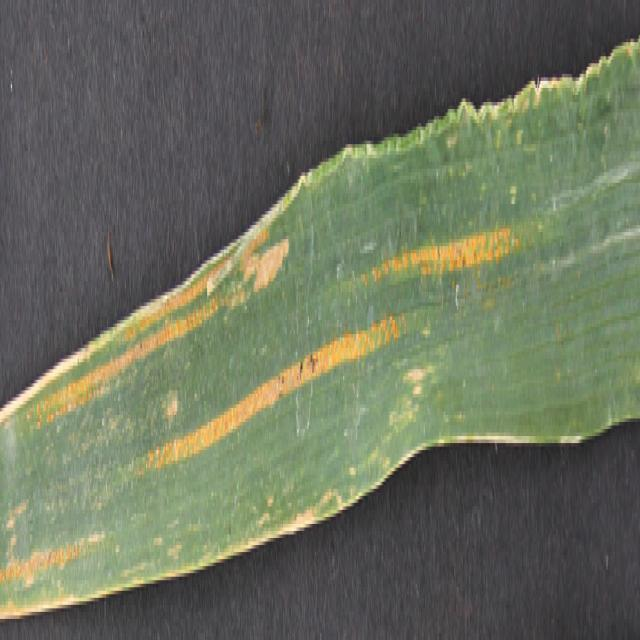leaf rust: (0, 137, 518, 619)
